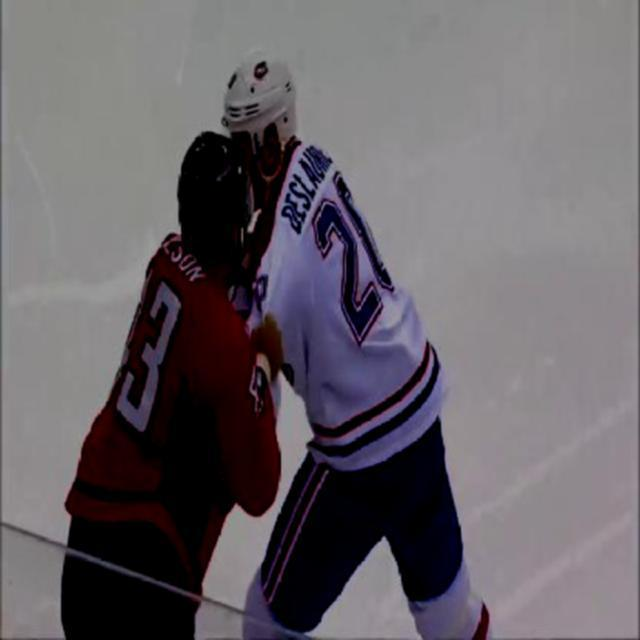fight: (70, 49, 456, 568)
